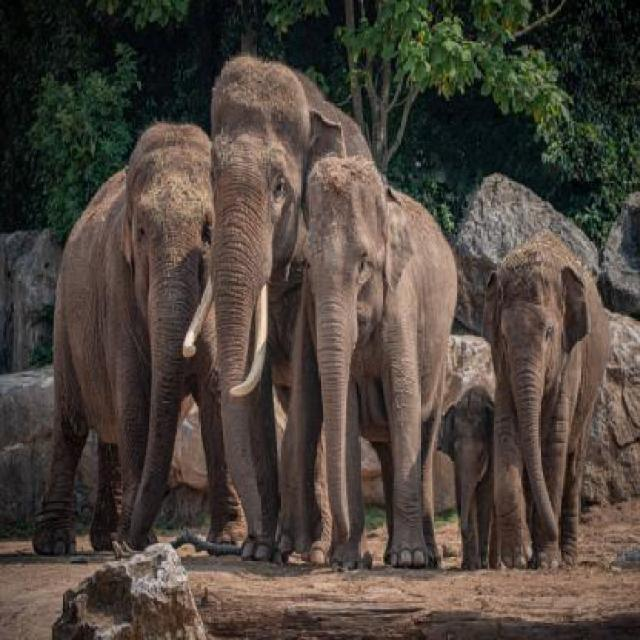Elephant: (183, 47, 412, 571), (27, 114, 262, 569), (298, 152, 452, 574), (476, 227, 618, 573), (438, 374, 510, 575)
